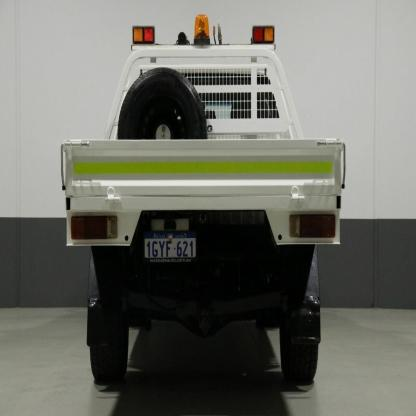light_vehicle: (52, 11, 355, 392)
